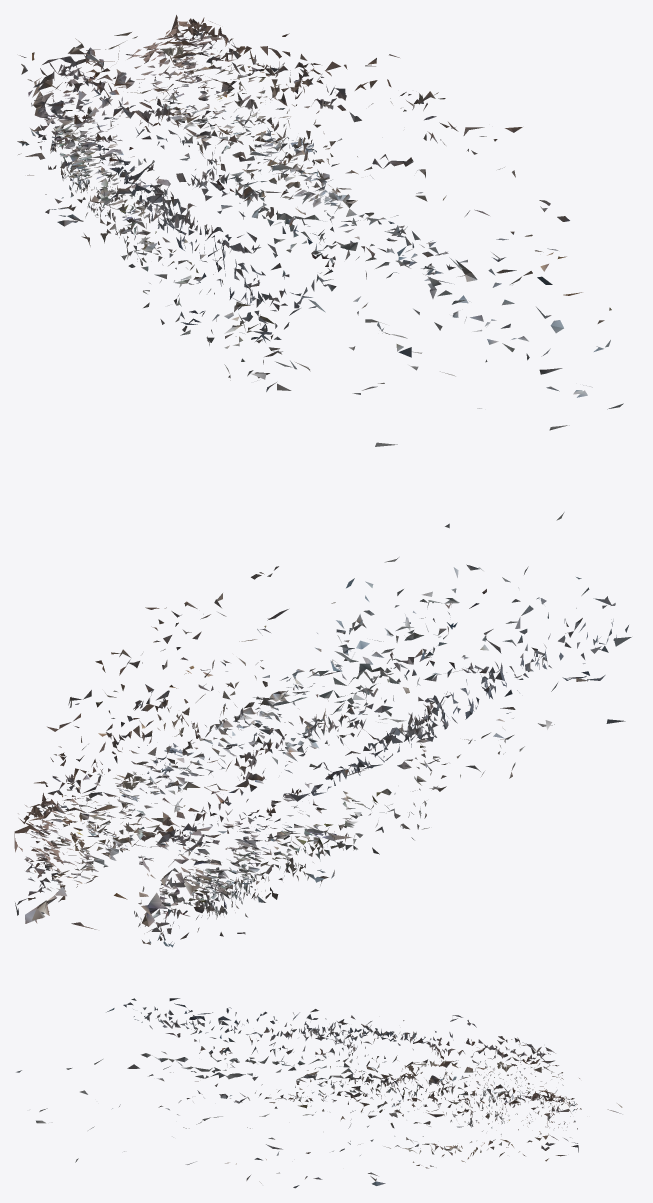
File: building.glb
The picture shows the model from 3 angles, top to bottom: view 1: azimuth 30°, elevation 25°; view 2: azimuth 150°, elevation 25°; view 3: azimuth 270°, elevation 25°; orthographic projection. The views are drawn at different scales.
Visible parts, largest first — view 1: building_raw.ply; view 2: building_raw.ply; view 3: building_raw.ply.
Boxes of the visible parts, x1,y1,x2,y2 form: building_raw.ply: (17, 15, 623, 446); building_raw.ply: (14, 512, 631, 947); building_raw.ply: (16, 998, 622, 1188).
Size of the model in its own units: 21.75 by 7.2 by 42.65.
